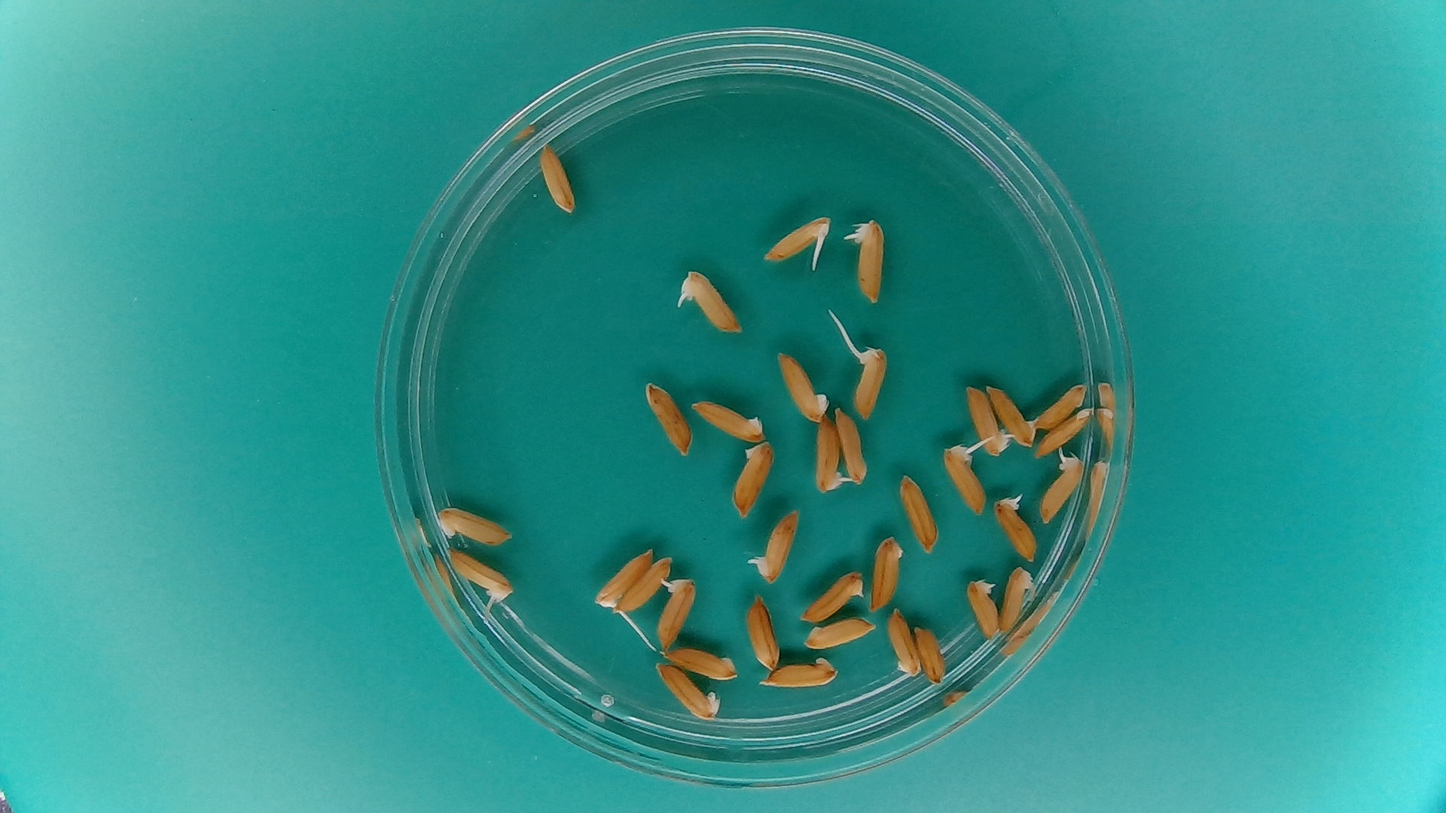no: (772, 345, 833, 425), (639, 378, 695, 461), (727, 438, 779, 523), (684, 393, 768, 444), (799, 565, 869, 623), (895, 470, 941, 556), (432, 502, 516, 548), (654, 662, 721, 719), (964, 382, 1013, 458), (532, 139, 578, 218), (613, 556, 673, 616), (986, 380, 1036, 450), (866, 531, 907, 616), (740, 591, 782, 673), (1033, 404, 1096, 458), (833, 403, 871, 488), (758, 656, 843, 693), (661, 644, 741, 683), (998, 561, 1039, 635), (1030, 379, 1088, 431), (884, 605, 923, 682), (801, 614, 880, 652), (962, 574, 1002, 642), (911, 623, 951, 688)
yes: (681, 266, 749, 340), (840, 330, 892, 423), (592, 542, 654, 617), (762, 209, 834, 267), (442, 545, 514, 602), (939, 442, 988, 519), (755, 504, 801, 582), (994, 492, 1042, 566), (1037, 453, 1085, 525), (808, 415, 849, 497), (654, 573, 700, 645), (854, 218, 889, 303)
